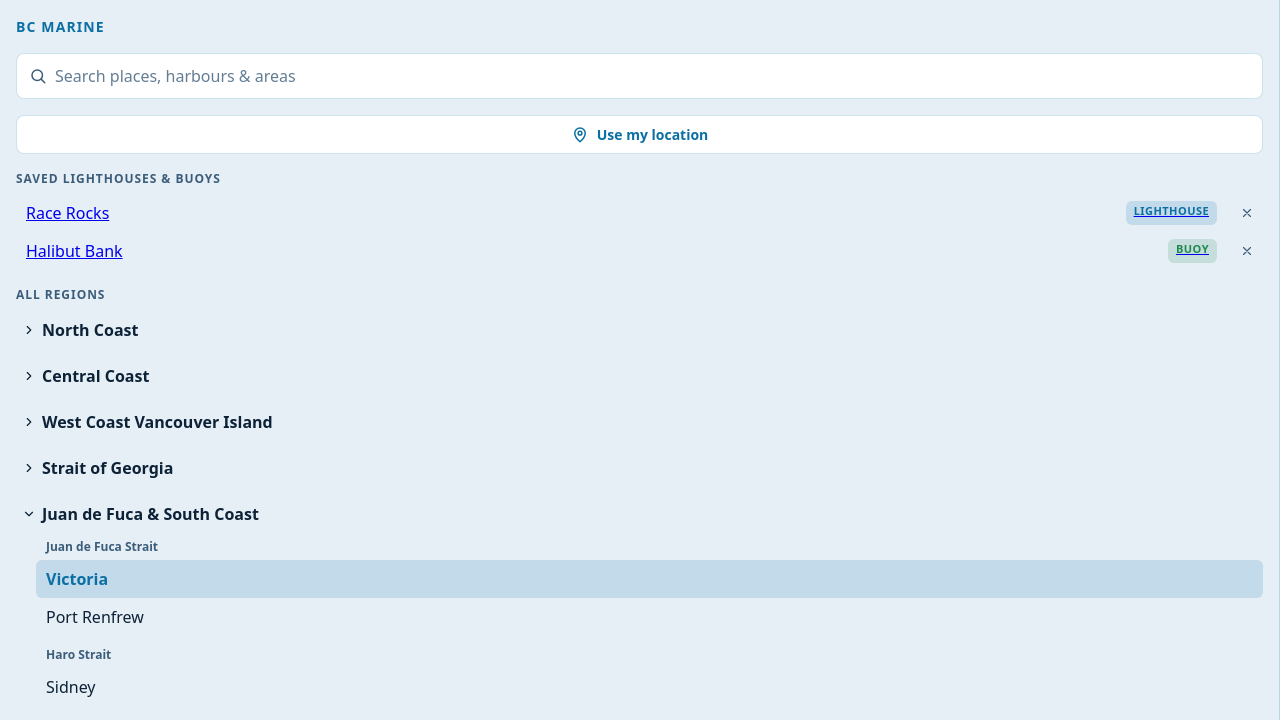
a saved site can be removed from the list
Click the button named "Remove Race Rocks" in the row of "Race Rocks".
click(1247, 213)  # box [1231, 197, 1263, 229]
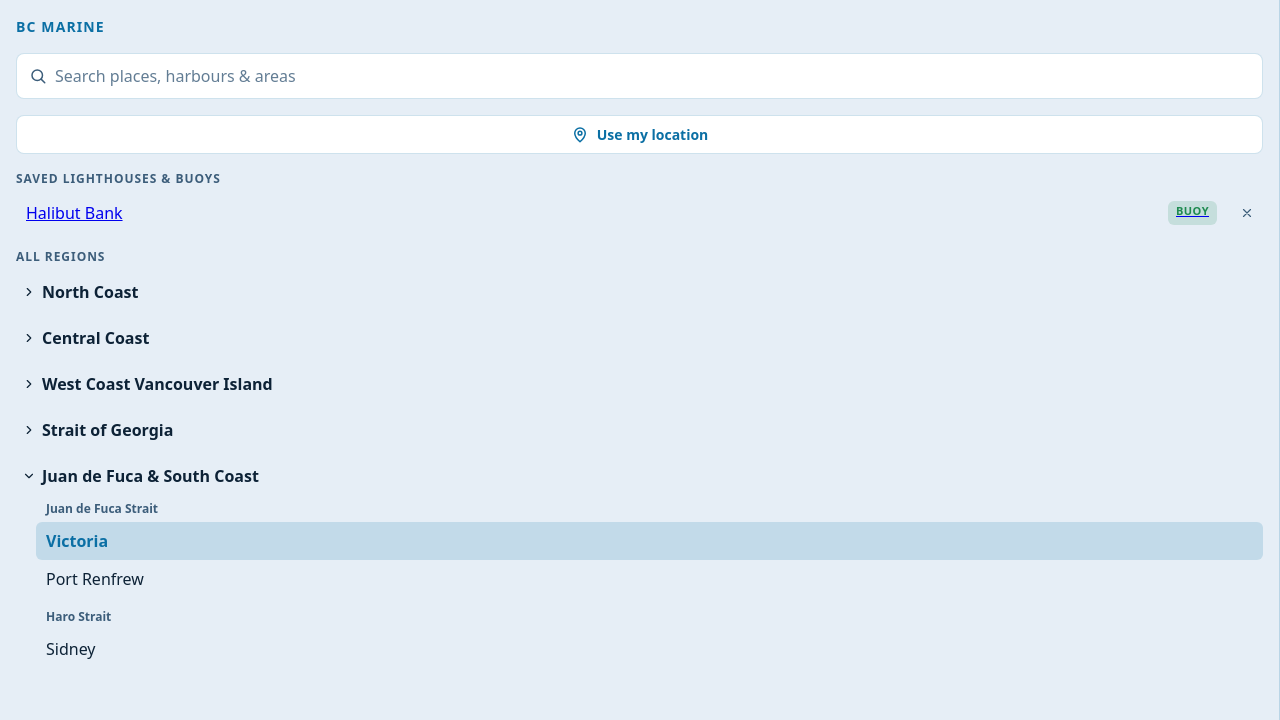
Expected: the link "Race Rocks" is gone
